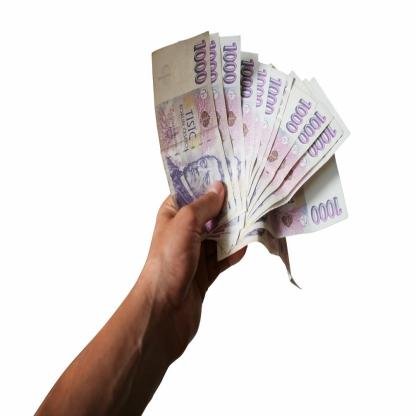billete: (150, 28, 352, 293)
